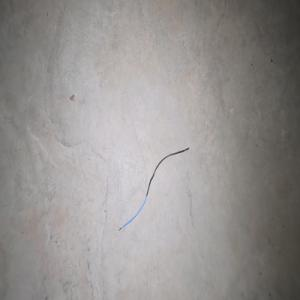Wire: (118, 147, 189, 231)
